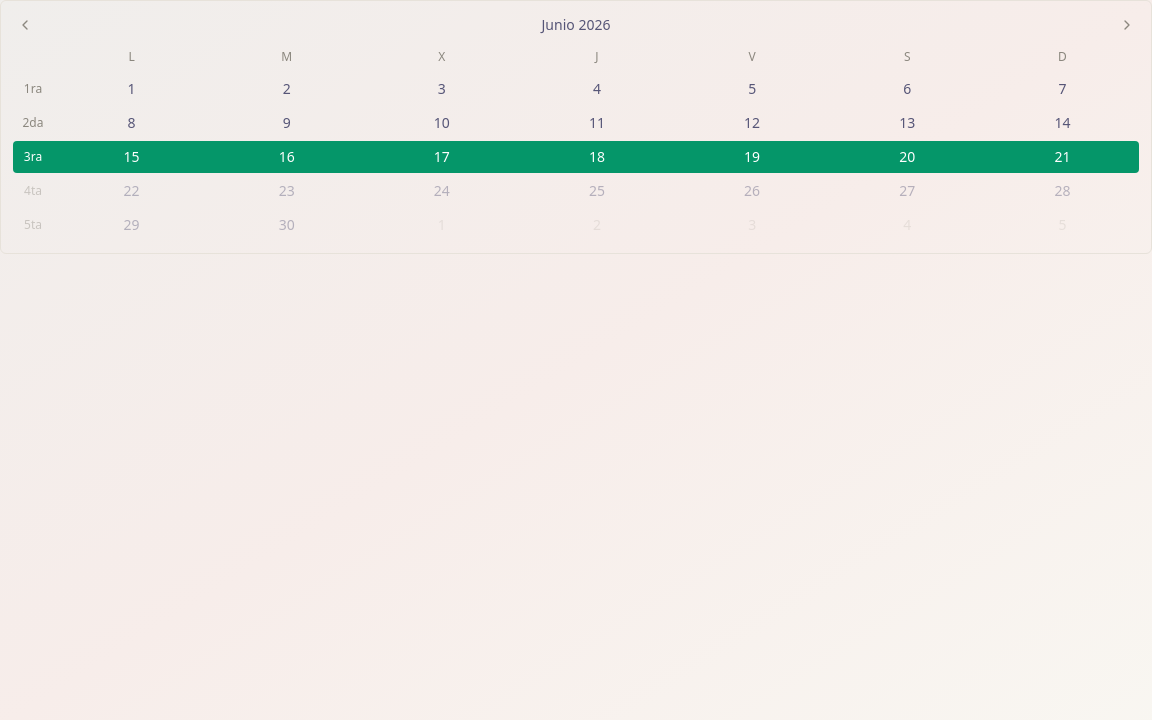
Test: WeekCalendar › cycles from weeks to months view when the label is clicked, and jumps to a month
Click the button with test id "week-calendar-view-label": (576, 25) [37,13,1115,37]
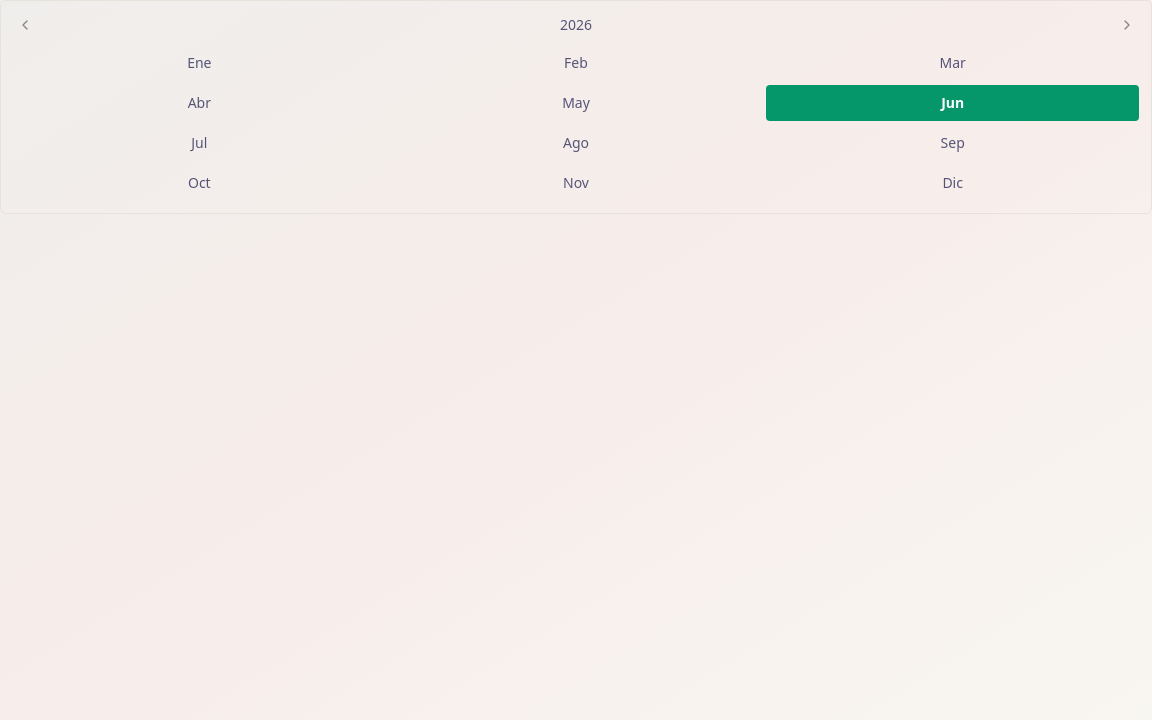
Expected: the button with test id "week-calendar-view-label" reads "2026", [37,13,1115,37]
Click the button with test id "week-calendar-month-option" showing "Ene": (199, 63) [13,45,386,81]
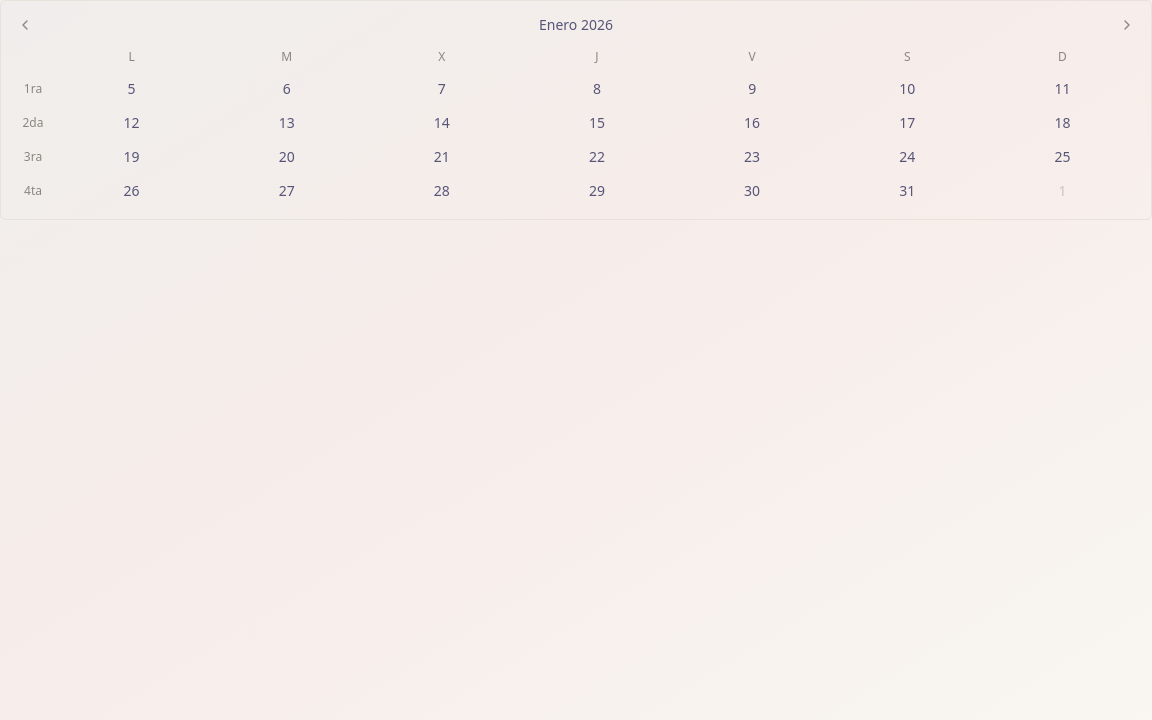
Expected: the button with test id "week-calendar-view-label" reads "Enero 2026", [37,13,1115,37]
